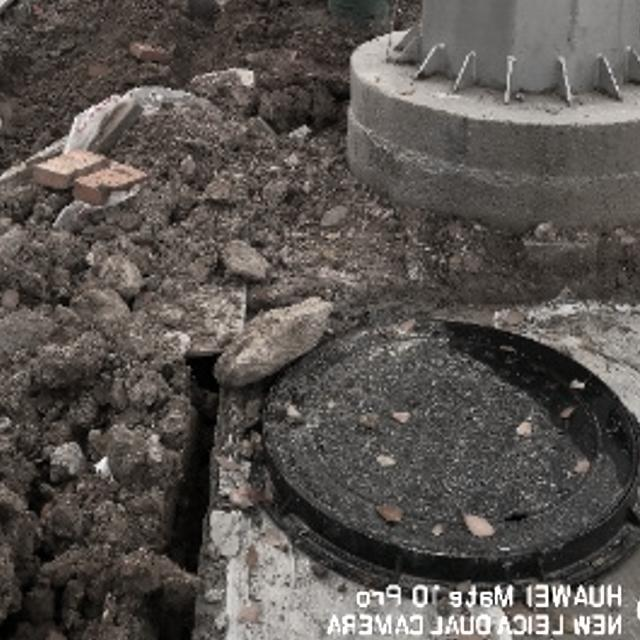good: (247, 306, 640, 604)
